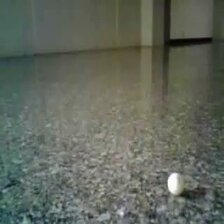w: (167, 172, 186, 194)
